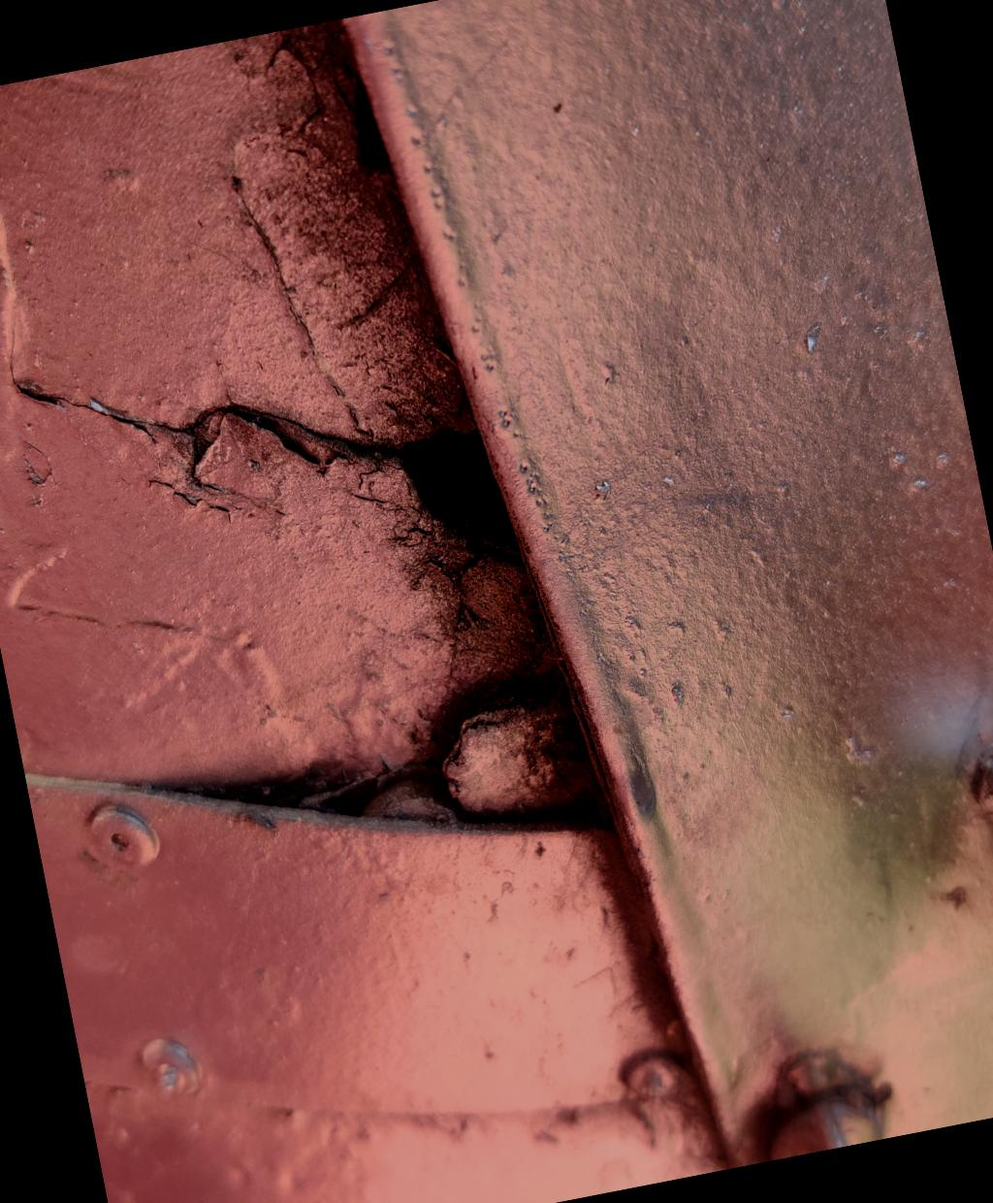crack: (278, 399, 640, 950)
